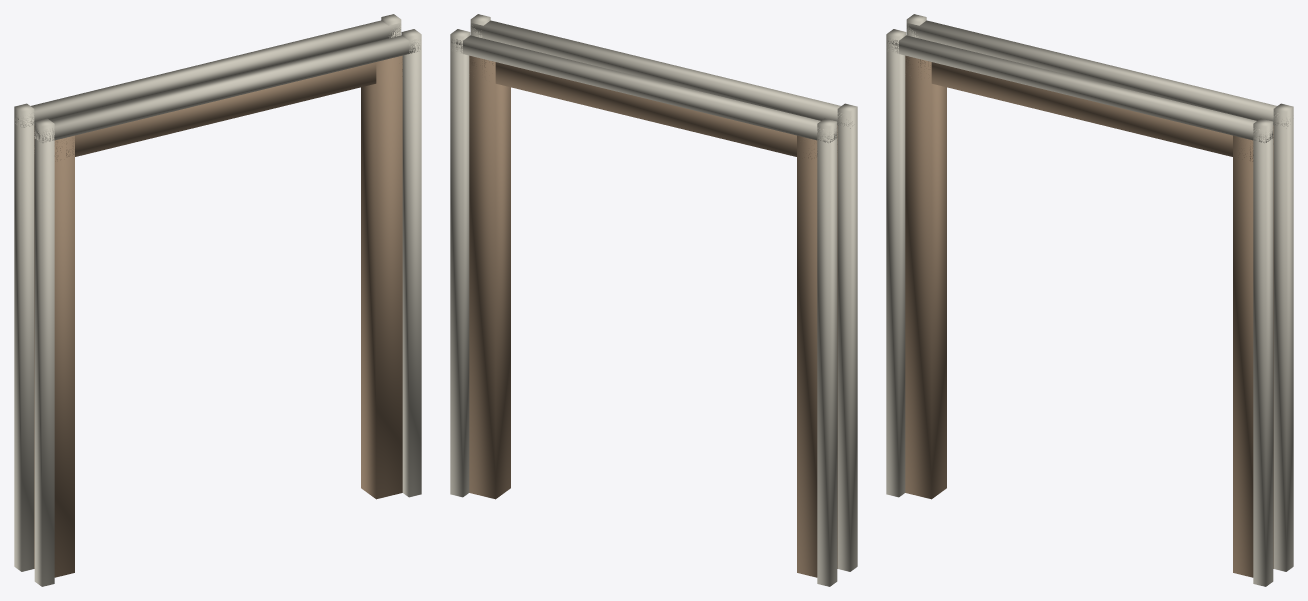
Rendered from doorway_painted_trim_w182_h240_d16.glb.
3 renders of one model, left to right at view 1: azimuth 30°, elevation 25°; view 2: azimuth 150°, elevation 25°; view 3: azimuth 330°, elevation 25°, orthographic.
Visible parts, largest first — view 1: world; view 2: world; view 3: world.
Boxes of the visible parts, x1,y1,x2,y2 form: world: (14, 14, 421, 586); world: (450, 14, 857, 586); world: (886, 14, 1293, 586).
Bounding box in the file's own units: 2.29 × 2.66 × 0.2906.
